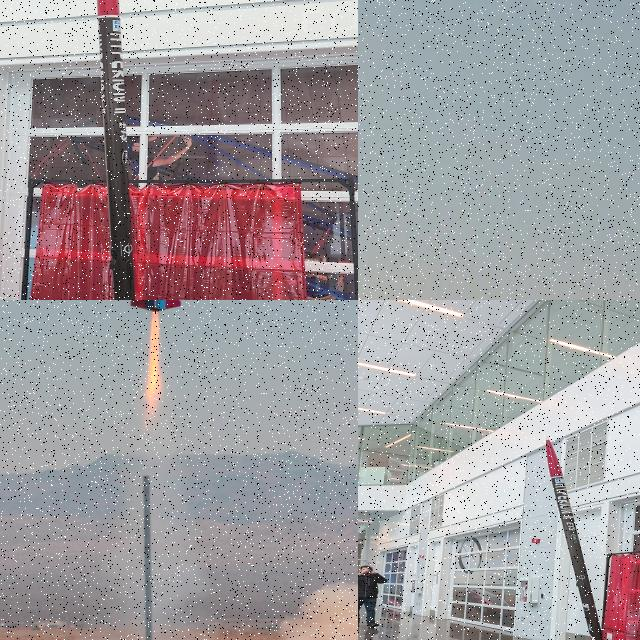Rocket: (546, 435, 604, 640), (97, 0, 136, 300)
